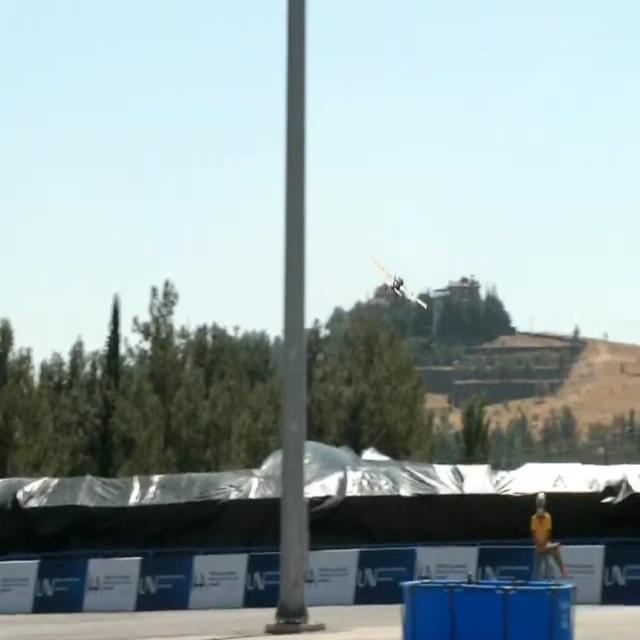iha: (370, 255, 428, 309)
